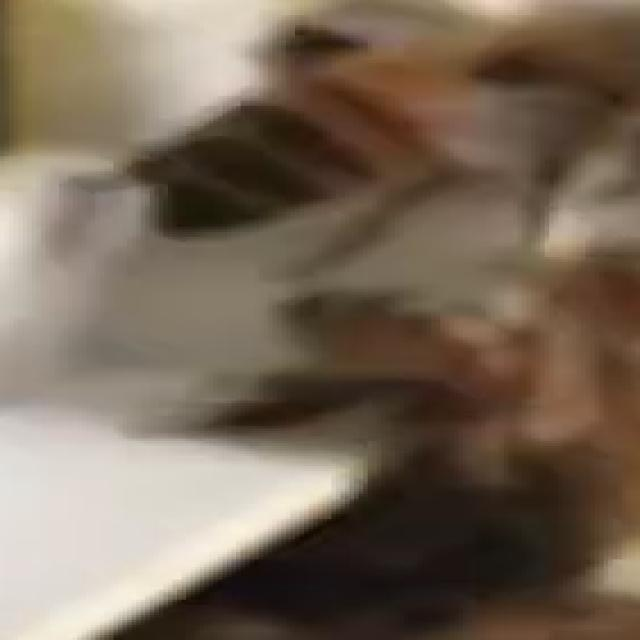honeybee: (89, 0, 607, 252)
